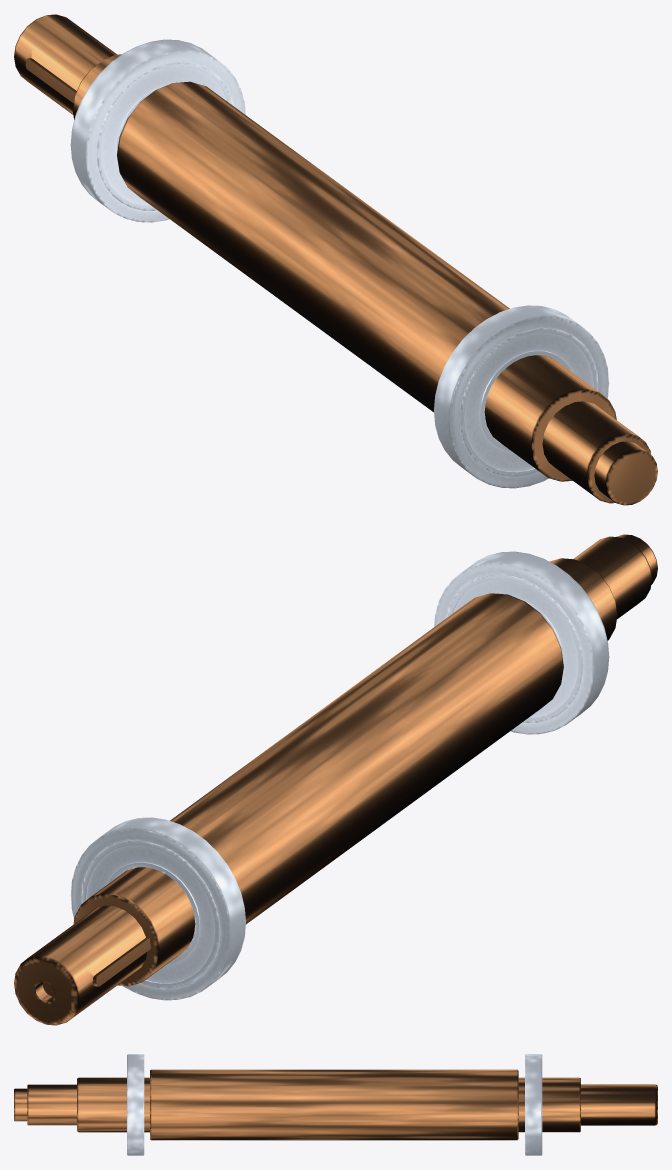
3 views of the same model, one above another, from view 1: azimuth 30°, elevation 25°; view 2: azimuth 150°, elevation 25°; view 3: azimuth 270°, elevation 25° (orthographic). The views are drawn at different scales.
Visible parts, largest first — view 1: 轴承; view 2: 轴承; view 3: 轴承.
Boxes of the visible parts, box(x1,y1,x2,y2) form: 轴承: box(14, 14, 657, 505); 轴承: box(14, 534, 657, 1025); 轴承: box(14, 1054, 657, 1155).
Bounding box in the file's own units: 75.86 × 75.86 × 482.
